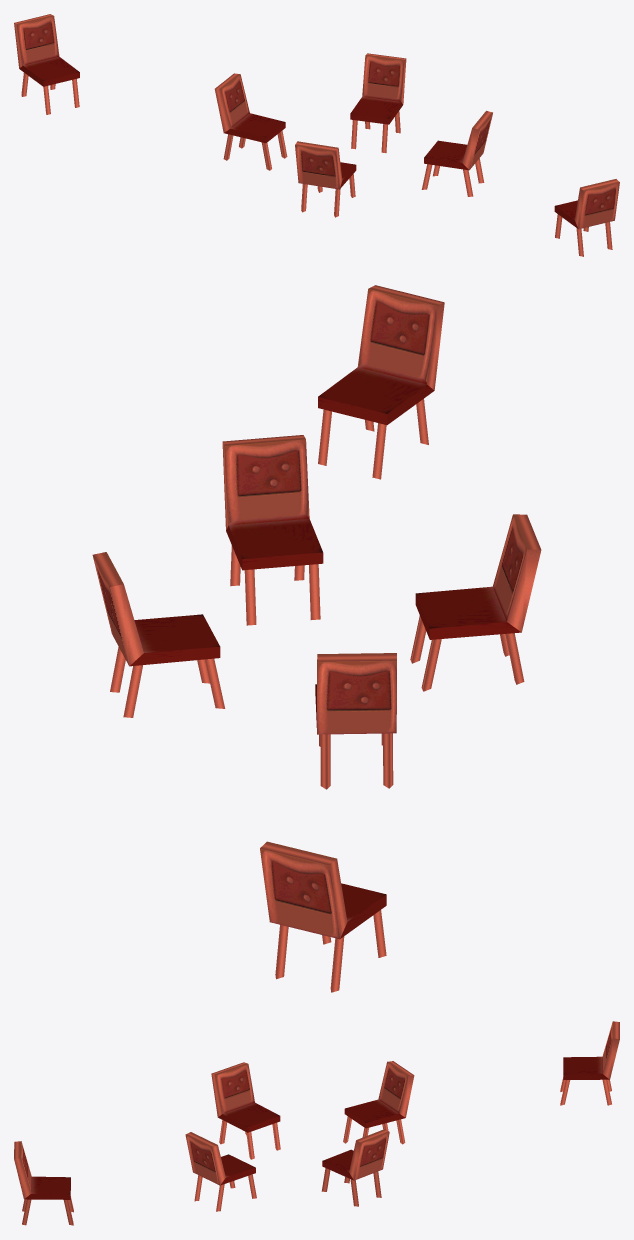
Rendered from Chairs.glb.
The picture shows the model from 3 angles, top to bottom: view 1: azimuth 30°, elevation 25°; view 2: azimuth 150°, elevation 25°; view 3: azimuth 270°, elevation 25°; orthographic projection. The views are drawn at different scales.
Visible parts, largest first — view 1: Chairs; view 2: Chairs; view 3: Chairs.
Boxes of the visible parts, x1,y1,x2,y2 form: Chairs: [14, 14, 619, 256]; Chairs: [92, 285, 541, 992]; Chairs: [14, 1021, 619, 1225].
Size of the model in its own units: 940 by 218 by 1757.
Materials: 1 (1 with a texture image).
